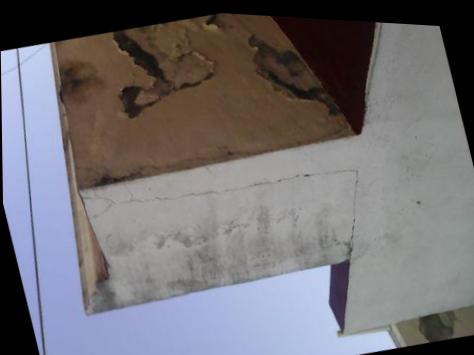crack: (81, 163, 357, 253)
